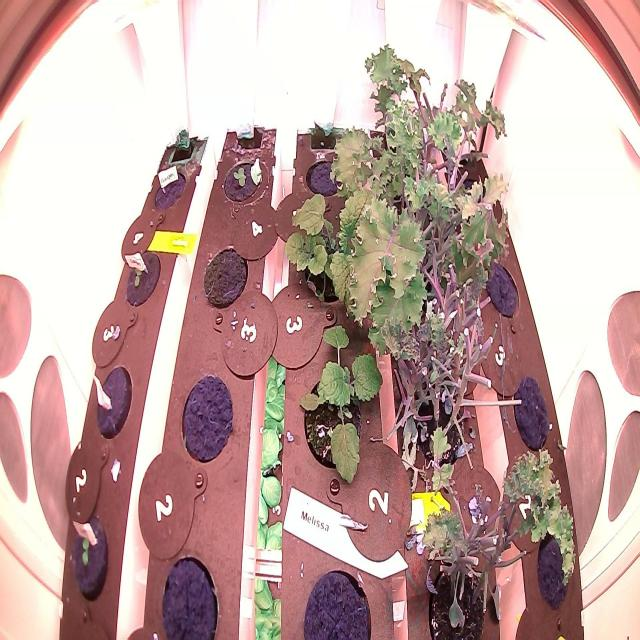germination: (65, 504, 115, 608), (218, 146, 272, 222), (119, 242, 166, 312)
pod: (296, 564, 376, 640), (178, 368, 236, 467), (159, 552, 223, 640), (89, 362, 135, 444), (532, 530, 576, 615), (202, 239, 250, 315), (512, 372, 554, 456), (303, 149, 348, 210), (483, 256, 522, 323), (147, 166, 189, 218)
